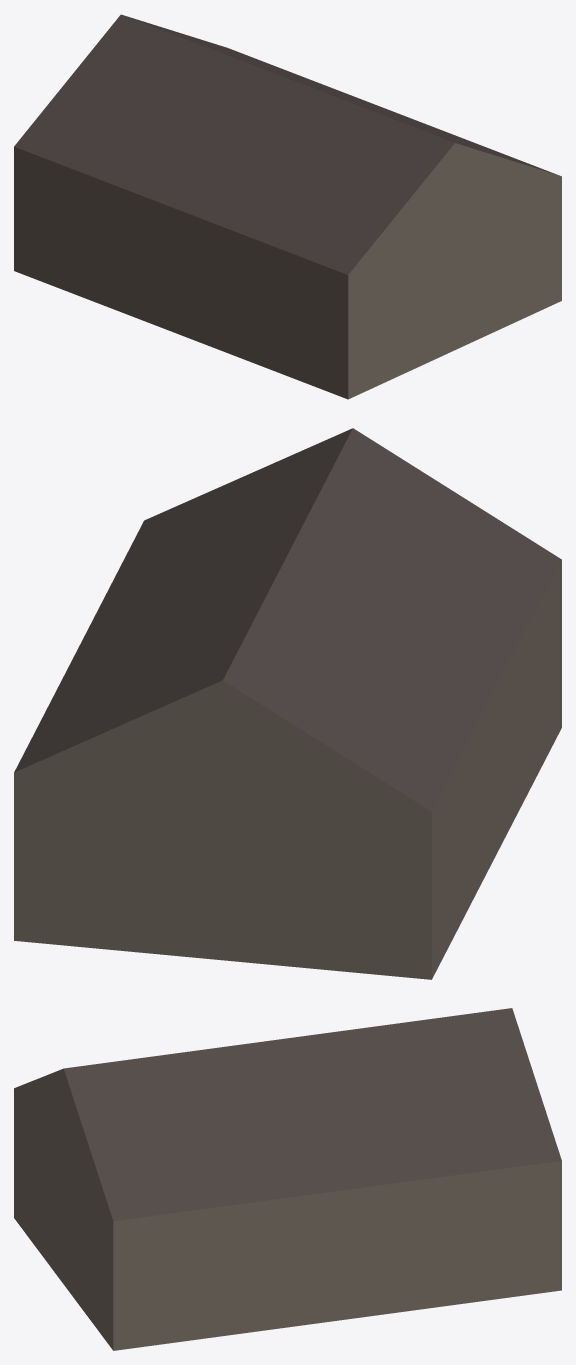
The picture shows the model from 3 angles, top to bottom: view 1: azimuth 30°, elevation 25°; view 2: azimuth 150°, elevation 25°; view 3: azimuth 270°, elevation 25°; orthographic projection. The views are drawn at different scales.
Parts seen in each view (by area): view 1: HP-w859457344; view 2: HP-w859457344; view 3: HP-w859457344.
Boxes of the visible parts, x1,y1,x2,y2 form: HP-w859457344: (14, 14, 561, 399); HP-w859457344: (14, 428, 561, 979); HP-w859457344: (14, 1008, 561, 1350).
Bounding box in the file's own units: 19.2 × 10 × 22.98.
